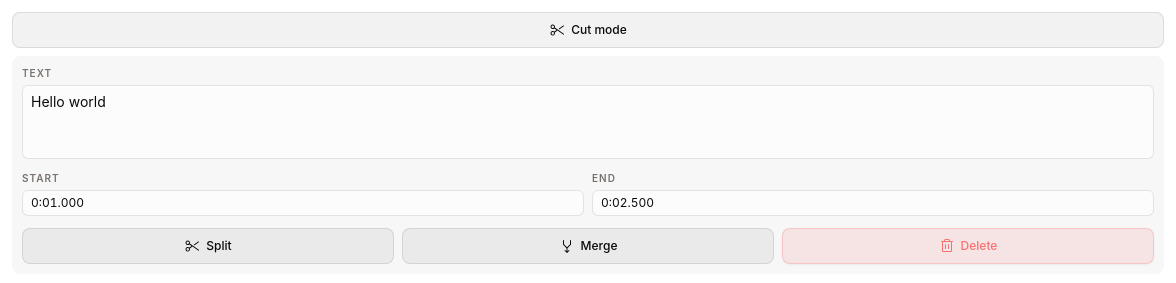
Test: CaptionListPanel › toasts when a cleared caption reverts instead of saving silently
Clear the text box showing "Hello world" at (588, 122), box [22,85,1154,159]
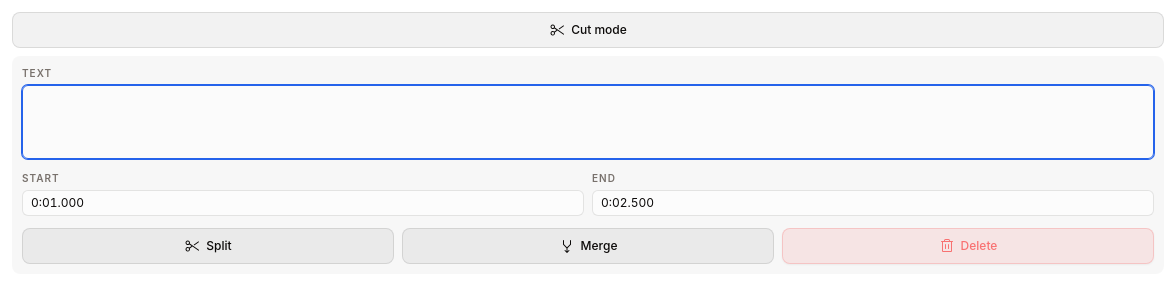
Press Tab
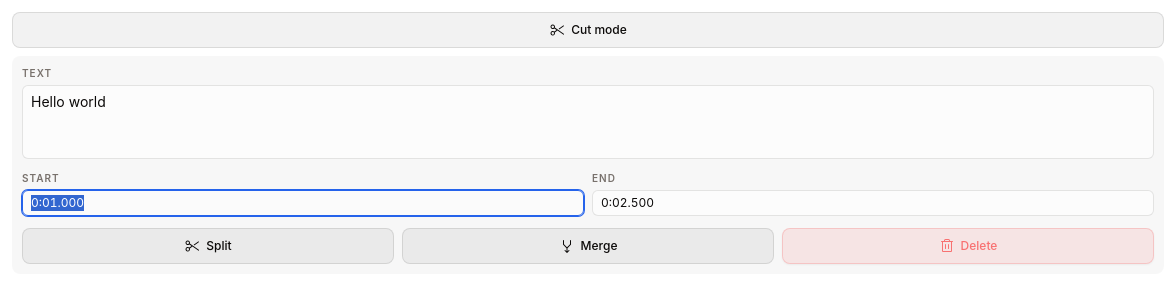
Now the text box showing "Hello world" is shown, box [22,85,1154,159]
